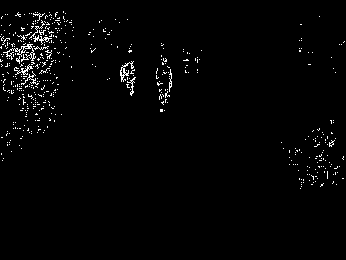person: (157, 57, 174, 114)
